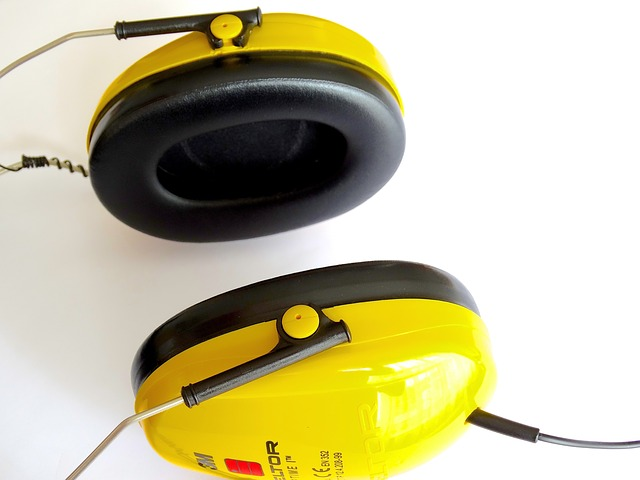headphones: (1, 7, 498, 480)
